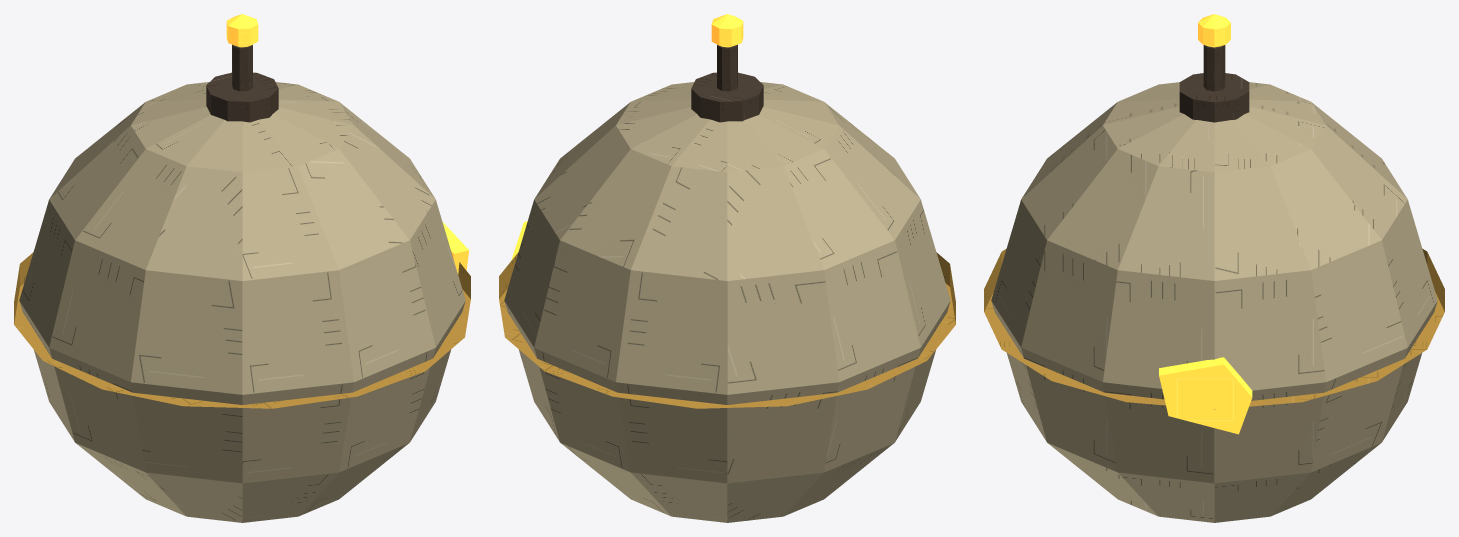
File: haze.glb
The picture shows the model from 3 angles, left to right: view 1: azimuth 30°, elevation 25°; view 2: azimuth 150°, elevation 25°; view 3: azimuth 270°, elevation 25°; orthographic projection.
Parts seen in each view (by area): view 1: body, fuse; view 2: body, fuse; view 3: body, fuse.
Part boxes in pixels (<box>): body: <box>14,72,470,522</box>; fuse: <box>226,14,258,91</box>; body: <box>499,72,955,522</box>; fuse: <box>711,14,743,91</box>; body: <box>984,73,1444,522</box>; fuse: <box>1198,14,1230,91</box>.
Size of the model in its own units: 0.3406 by 0.3987 by 0.3406.
Materials: 4 (4 with a texture image).
